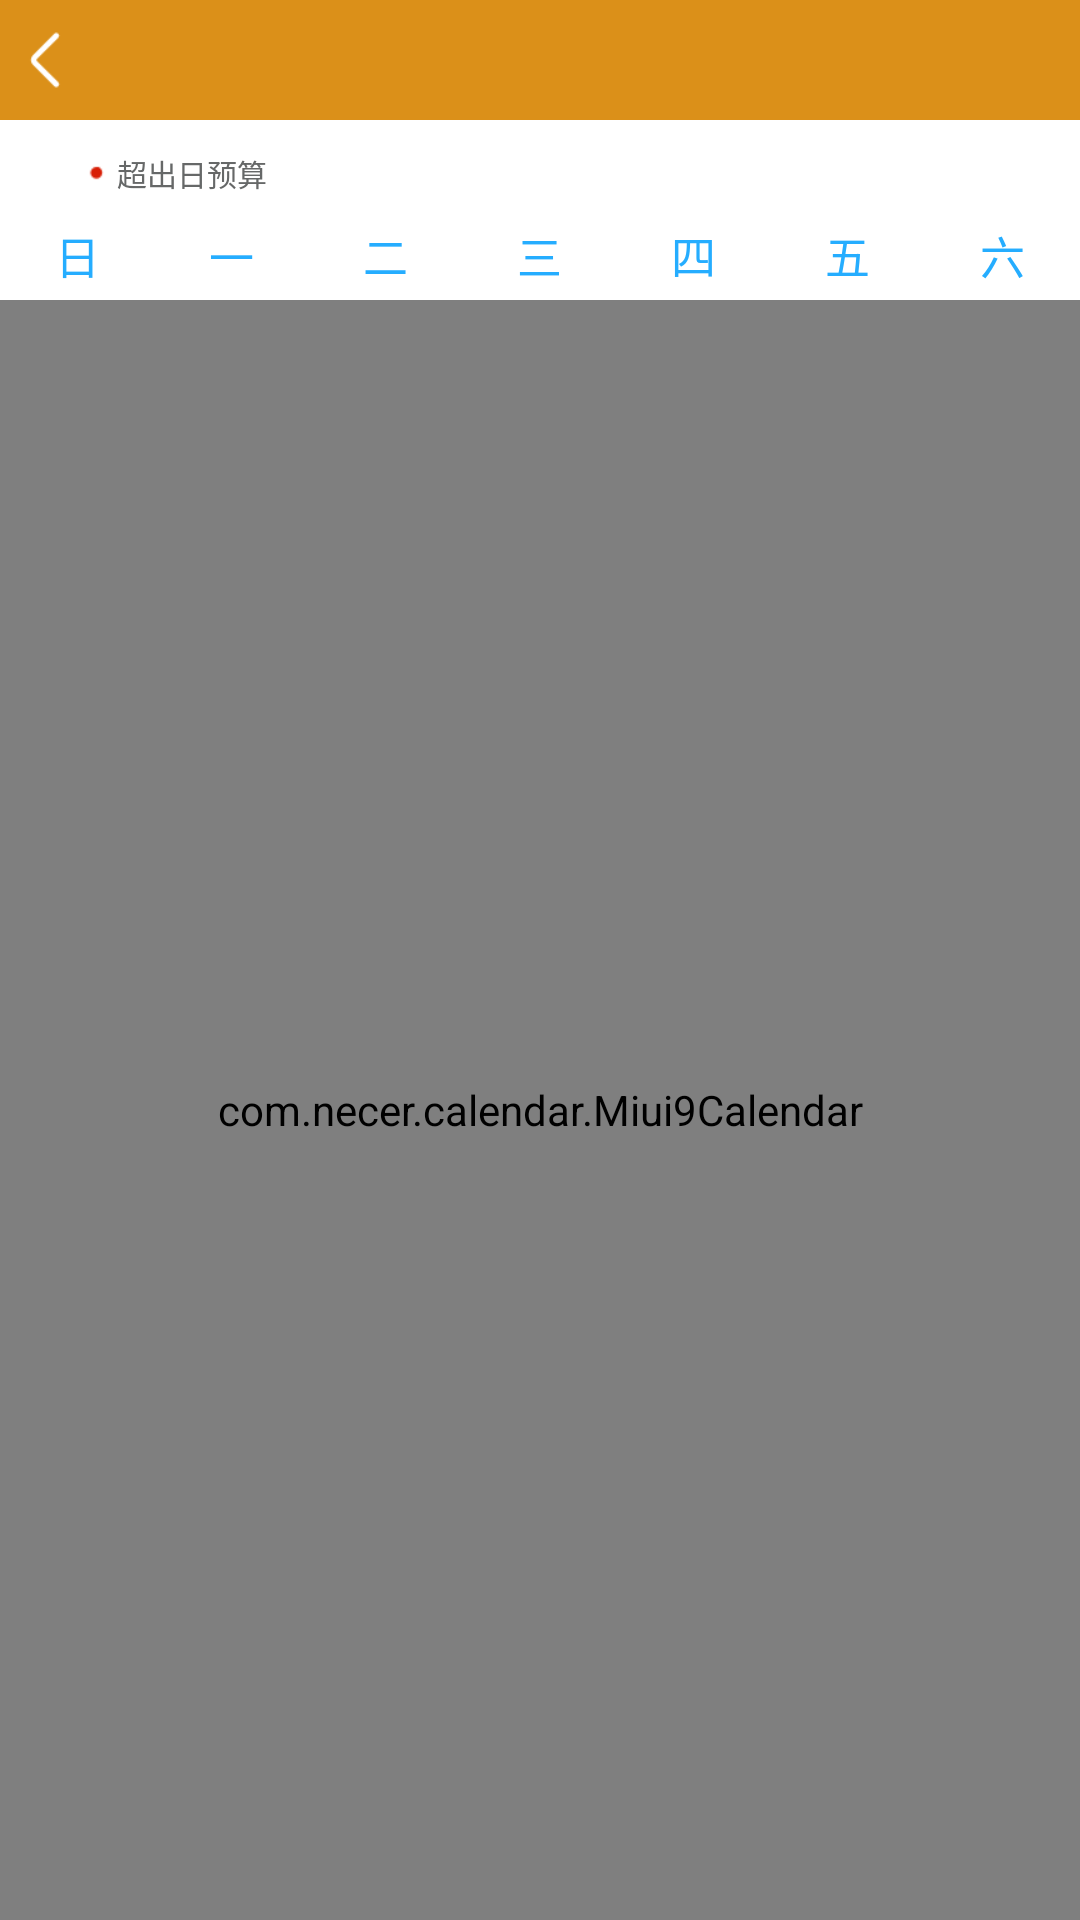

Icon bounding boxes for this 1080w x 1920h phone screenshot, format (x1, y1, x2, y2):
back: (30, 32, 60, 88)
